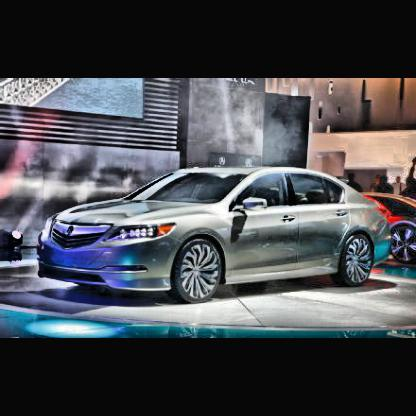Acura RL Sedan 2012: (37, 166, 398, 306)
